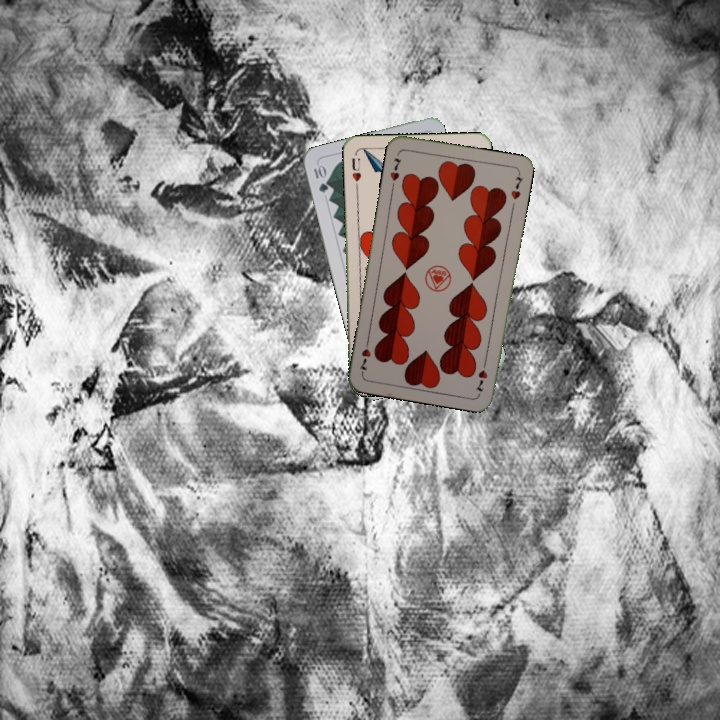G10: (310, 161, 331, 195)
H7: (472, 355, 490, 396), (386, 154, 404, 183)
HU: (348, 154, 363, 191)
